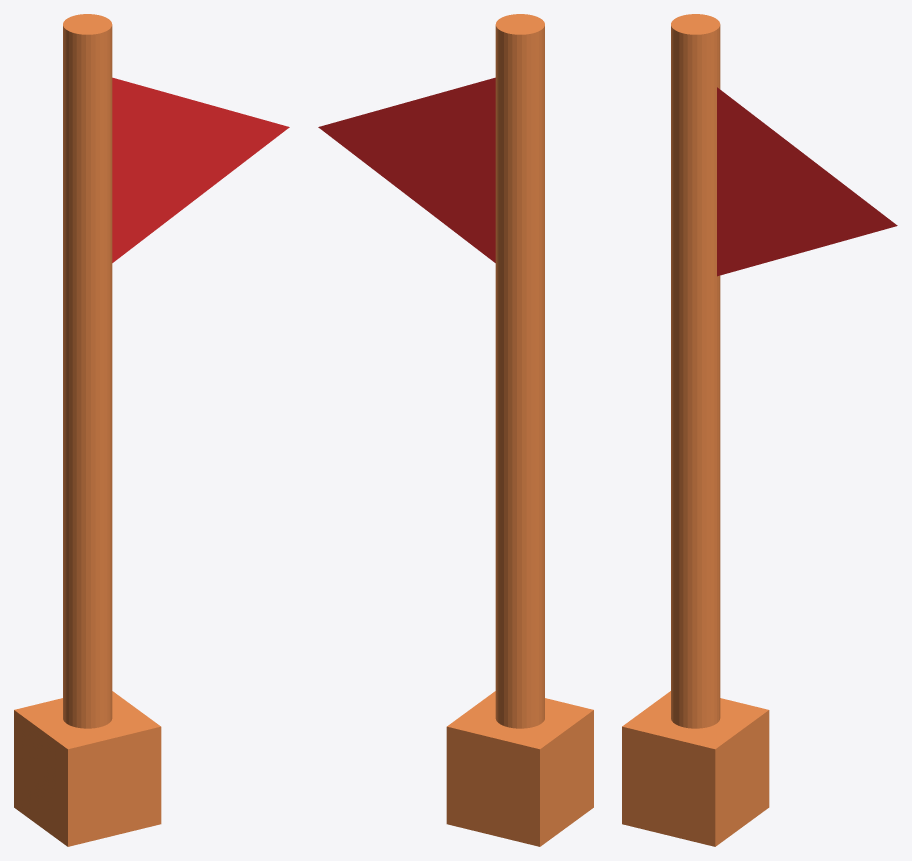
Rendered from Flag.obj.
3 views of the same model, side by side, from view 1: azimuth 30°, elevation 25°; view 2: azimuth 150°, elevation 25°; view 3: azimuth 330°, elevation 25° (orthographic).
Visible parts, largest first — view 1: 立方体; view 2: 立方体; view 3: 立方体.
Boxes of the visible parts, x1=… form: 立方体: x1=14, y1=14, x2=289, y2=846; 立方体: x1=318, y1=14, x2=593, y2=846; 立方体: x1=622, y1=14, x2=897, y2=846.
Size of the model in its own units: 2.67 by 8.11 by 1.
Materials: 1 (1 with a texture image).
